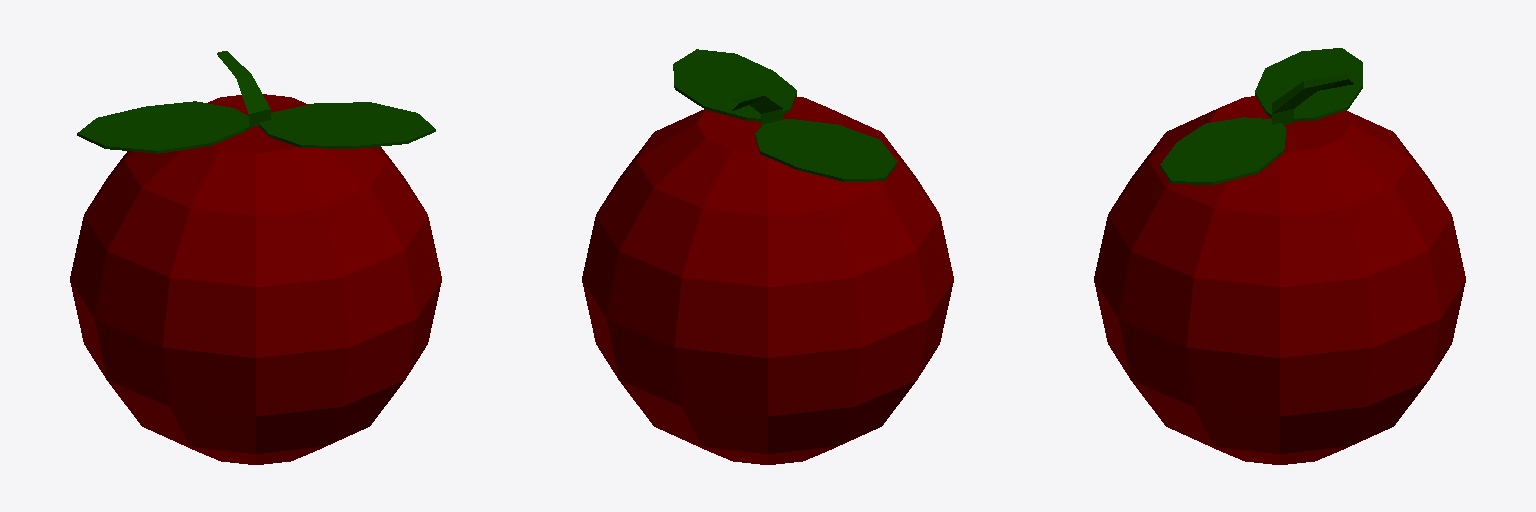
File: apple5.obj
3 views of the same model, side by side, from view 1: azimuth 30°, elevation 25°; view 2: azimuth 150°, elevation 25°; view 3: azimuth 270°, elevation 25° (orthographic).
Parts seen in each view (by area): view 1: Mesh_Sphere.001; view 2: Mesh_Sphere.001; view 3: Mesh_Sphere.001.
Boxes of the visible parts, box(x1,y1,x2,y2) form: Mesh_Sphere.001: box(70, 51, 441, 464); Mesh_Sphere.001: box(582, 49, 953, 464); Mesh_Sphere.001: box(1094, 48, 1465, 464).
Bounding box in the file's own units: 12.85 × 13.65 × 12.85.